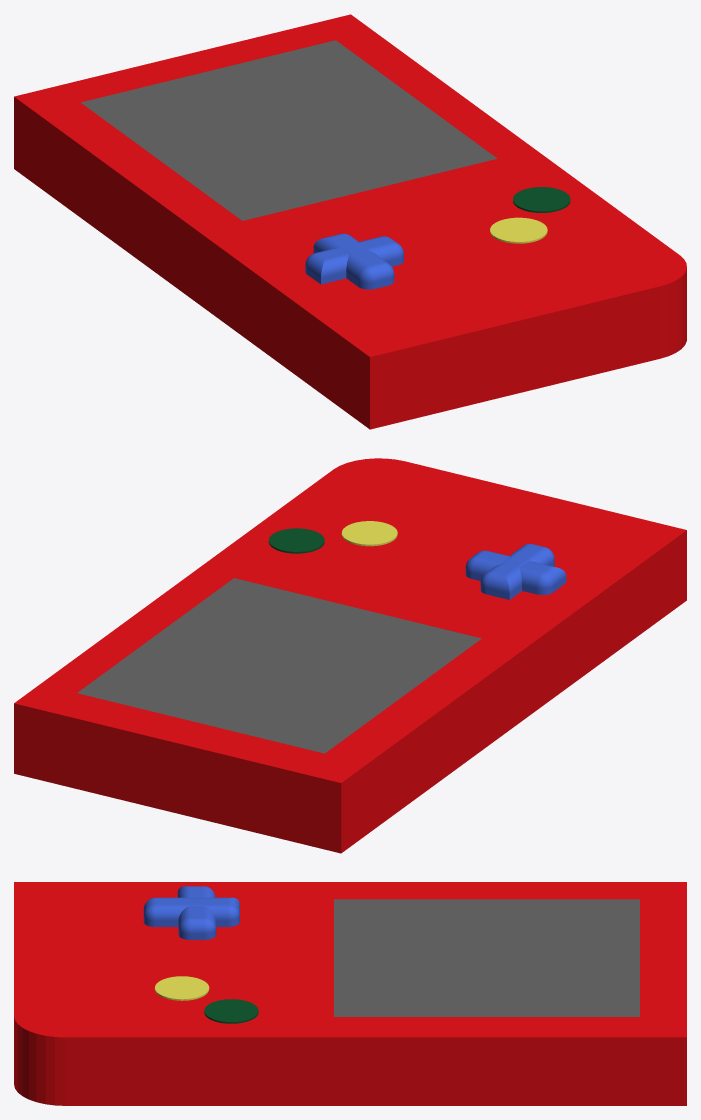
File: Console.glb
3 views of the same model, one above another, from view 1: azimuth 30°, elevation 25°; view 2: azimuth 150°, elevation 25°; view 3: azimuth 270°, elevation 25° (orthographic). The views are drawn at different scales.
Parts seen in each view (by area): view 1: Base, Ecran, DirectionV, DirectionH, Cylinder, Cylinder.001; view 2: Base, Ecran, DirectionH, DirectionV, Cylinder.001, Cylinder; view 3: Base, Ecran, DirectionV, DirectionH, Cylinder, Cylinder.001.
Boxes of the visible parts, x1,y1,x2,y2 form: Base: (14,14,686,429); Ecran: (81,40,497,220); DirectionV: (313,233,394,289); DirectionH: (305,236,403,284); Cylinder: (490,217,547,243); Cylinder.001: (513,187,570,212); Base: (14,458,686,853); Ecran: (77,578,481,753); DirectionH: (465,550,566,594); DirectionV: (480,544,554,599); Cylinder.001: (268,528,324,553); Cylinder: (341,521,397,546); Base: (14,882,686,1105); Ecran: (334,899,639,1016); DirectionV: (143,897,239,926); DirectionH: (177,886,216,939); Cylinder: (154,976,209,1000); Cylinder.001: (204,999,258,1023).
Bounding box in the file's own units: 1.09 × 0.2814 × 2.
